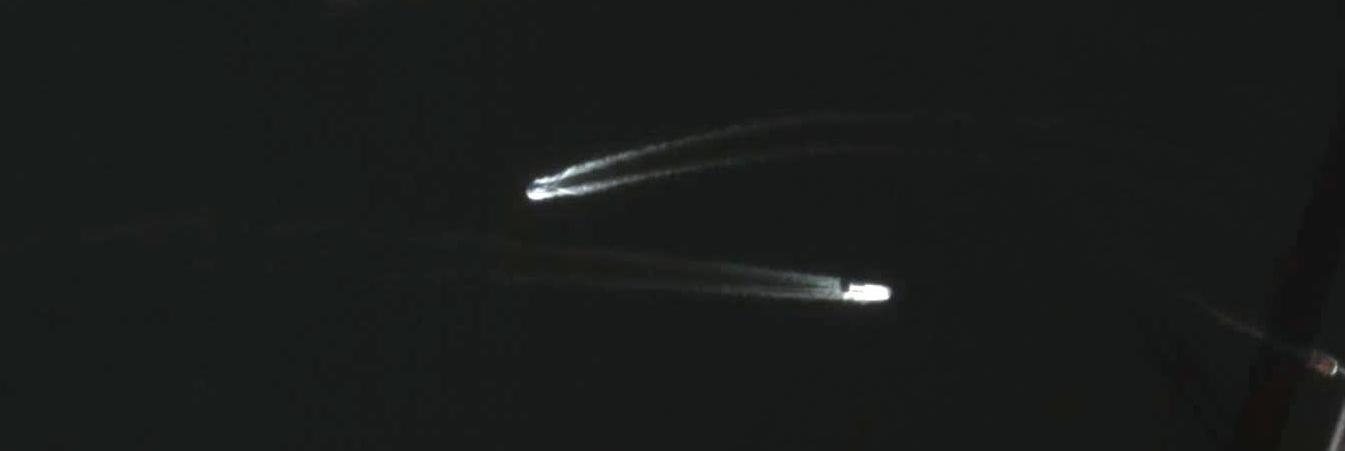person: (849, 283, 891, 301), (1310, 351, 1338, 375), (528, 183, 547, 192)
